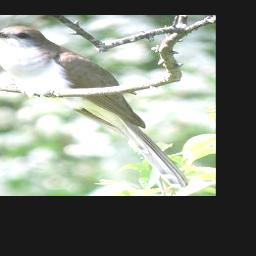Cuckoo: (0, 25, 194, 190)
